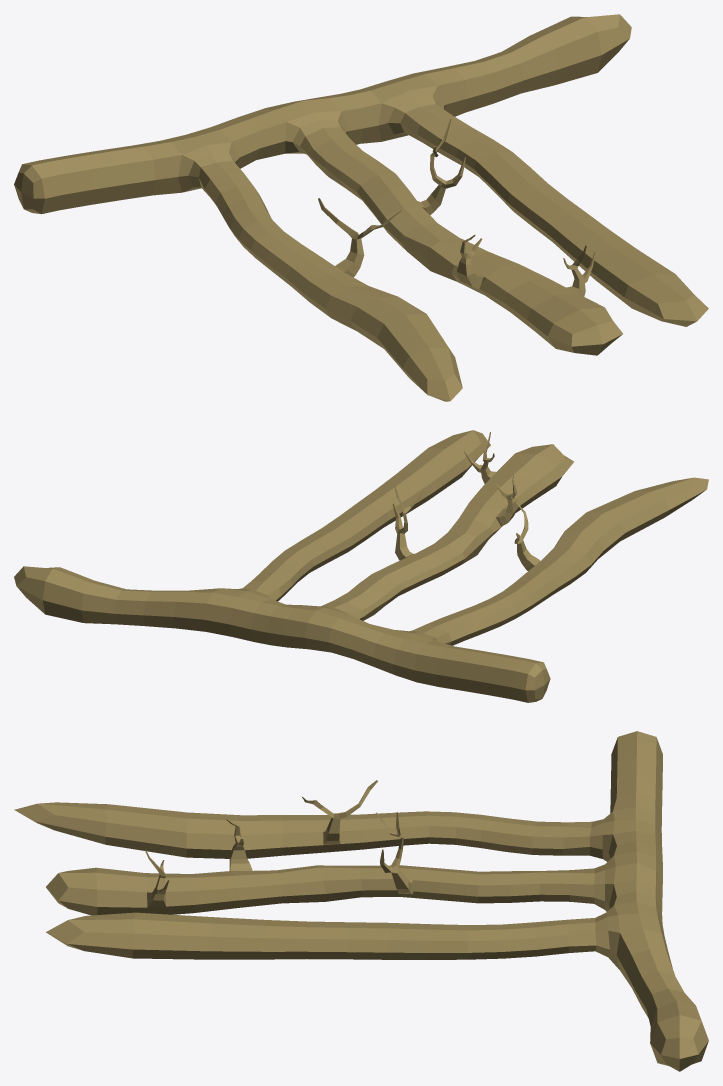
The model's file is 01 without subdivide.fbx.
3 renders of one model, top to bottom at view 1: azimuth 30°, elevation 25°; view 2: azimuth 150°, elevation 25°; view 3: azimuth 270°, elevation 25°, orthographic. The views are drawn at different scales.
Visible parts, largest first — view 1: Cube; view 2: Cube; view 3: Cube.
Part boxes in pixels (<box>): Cube: <box>14,14,708,401</box>; Cube: <box>14,430,708,702</box>; Cube: <box>14,731,708,1071</box>.
Bounding box in the file's own units: 8.07 × 1.54 × 7.79.
